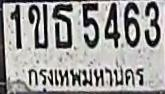1: (10, 4, 20, 48)
3: (144, 0, 160, 46)
4: (104, 2, 119, 48)
5: (82, 2, 98, 47)
6: (123, 1, 139, 46)
A02: (27, 3, 47, 48)
A24: (52, 2, 72, 48)
BKK: (25, 63, 148, 94)
